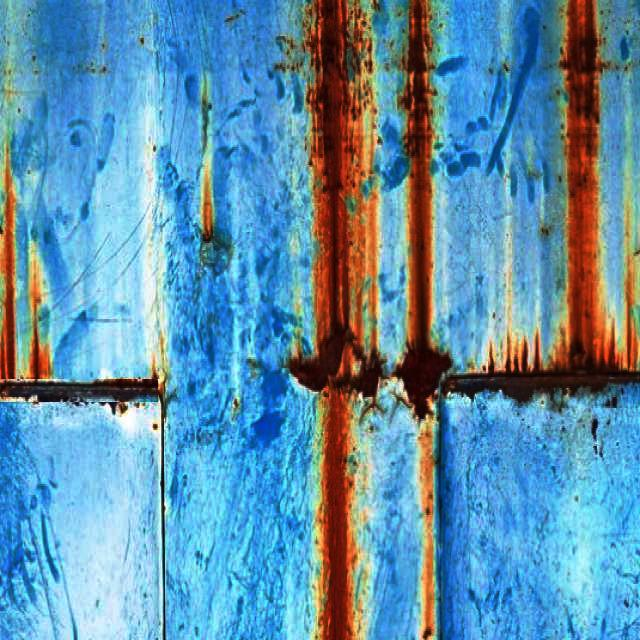Corrosion: (289, 0, 381, 640), (562, 0, 639, 374), (396, 0, 451, 419), (562, 0, 600, 370), (322, 389, 350, 640), (442, 372, 640, 403), (396, 348, 451, 419), (0, 378, 157, 402), (289, 330, 346, 391), (0, 164, 14, 379), (28, 256, 51, 379), (200, 74, 214, 256), (494, 334, 554, 374), (351, 354, 382, 397)
